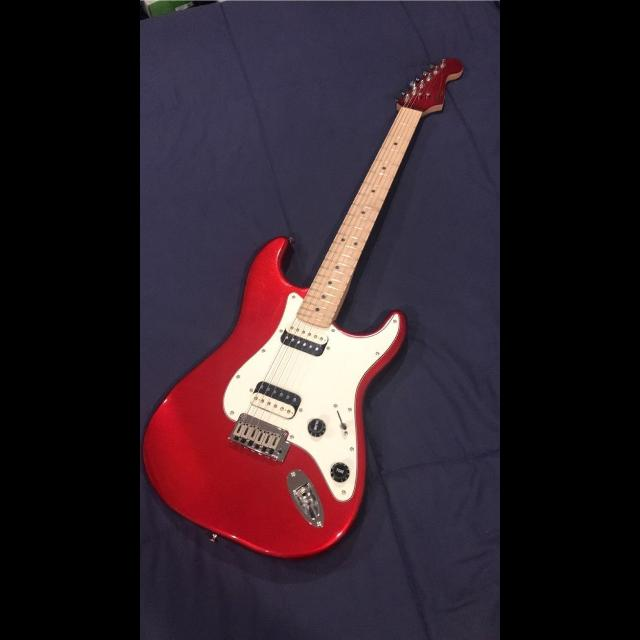Electric-Guitar: (140, 10, 478, 576)
